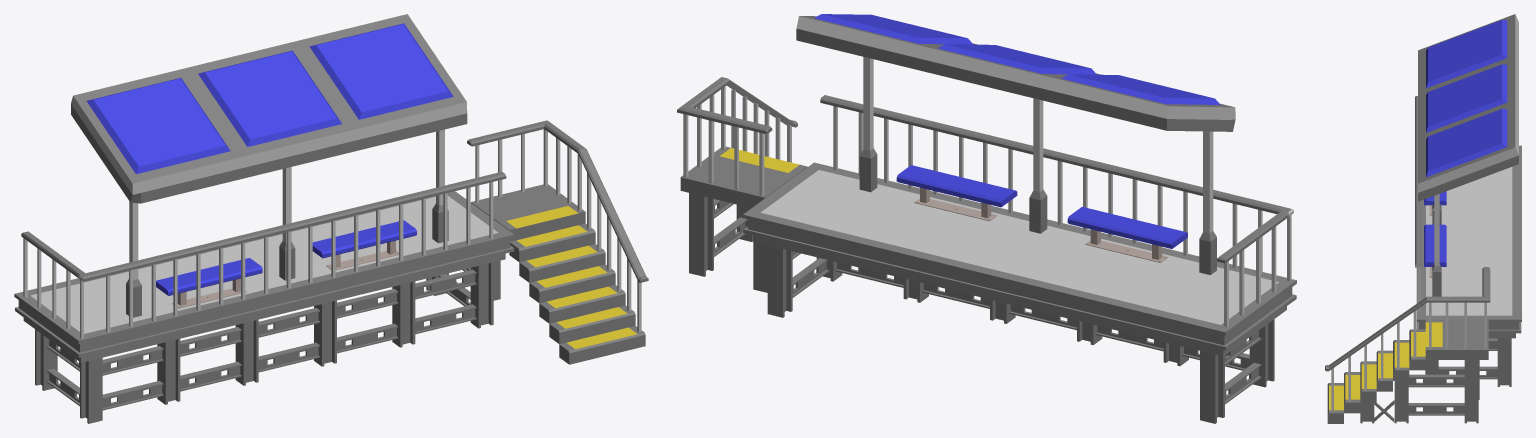
File: trainStop.fbx
3 views of the same model, side by side, from view 1: azimuth 30°, elevation 25°; view 2: azimuth 150°, elevation 25°; view 3: azimuth 270°, elevation 25° (orthographic). The views are drawn at different scales.
Visible parts, largest first — view 1: Train Stop; view 2: Train Stop; view 3: Train Stop.
Boxes of the visible parts, left/top/right/bottom form: Train Stop: left=14, top=14, right=648, bottom=423; Train Stop: left=677, top=14, right=1296, bottom=423; Train Stop: left=1325, top=14, right=1521, bottom=423.
Bounding box in the file's own units: 923 × 374 × 477.
